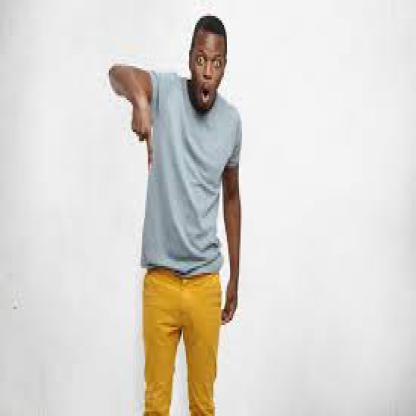Down: (121, 92, 160, 180)
